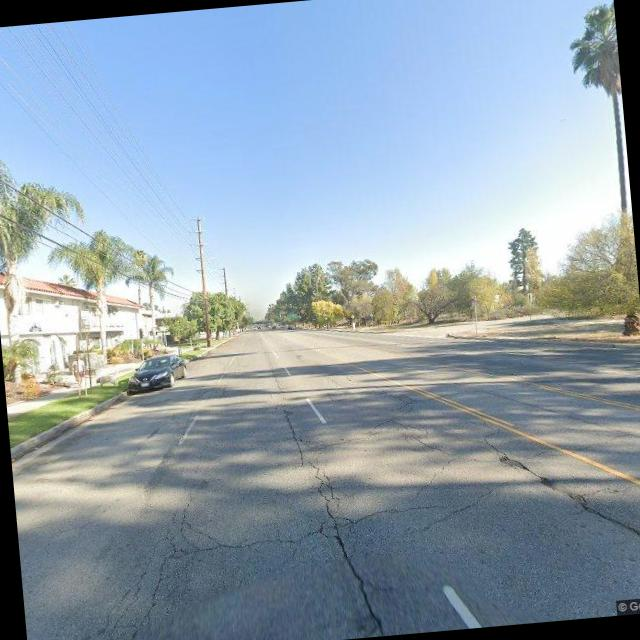crack: (125, 405, 512, 599)
